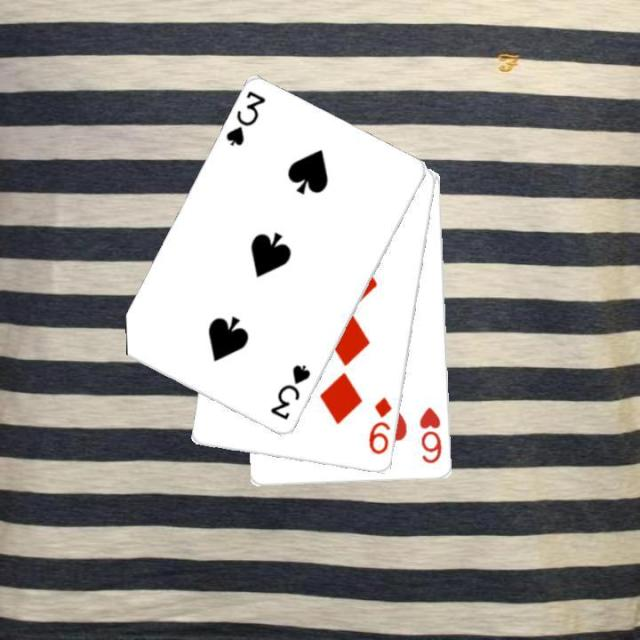3S: (222, 87, 268, 149), (267, 361, 313, 422)
6H: (416, 404, 444, 466)
9D: (365, 394, 394, 457)
